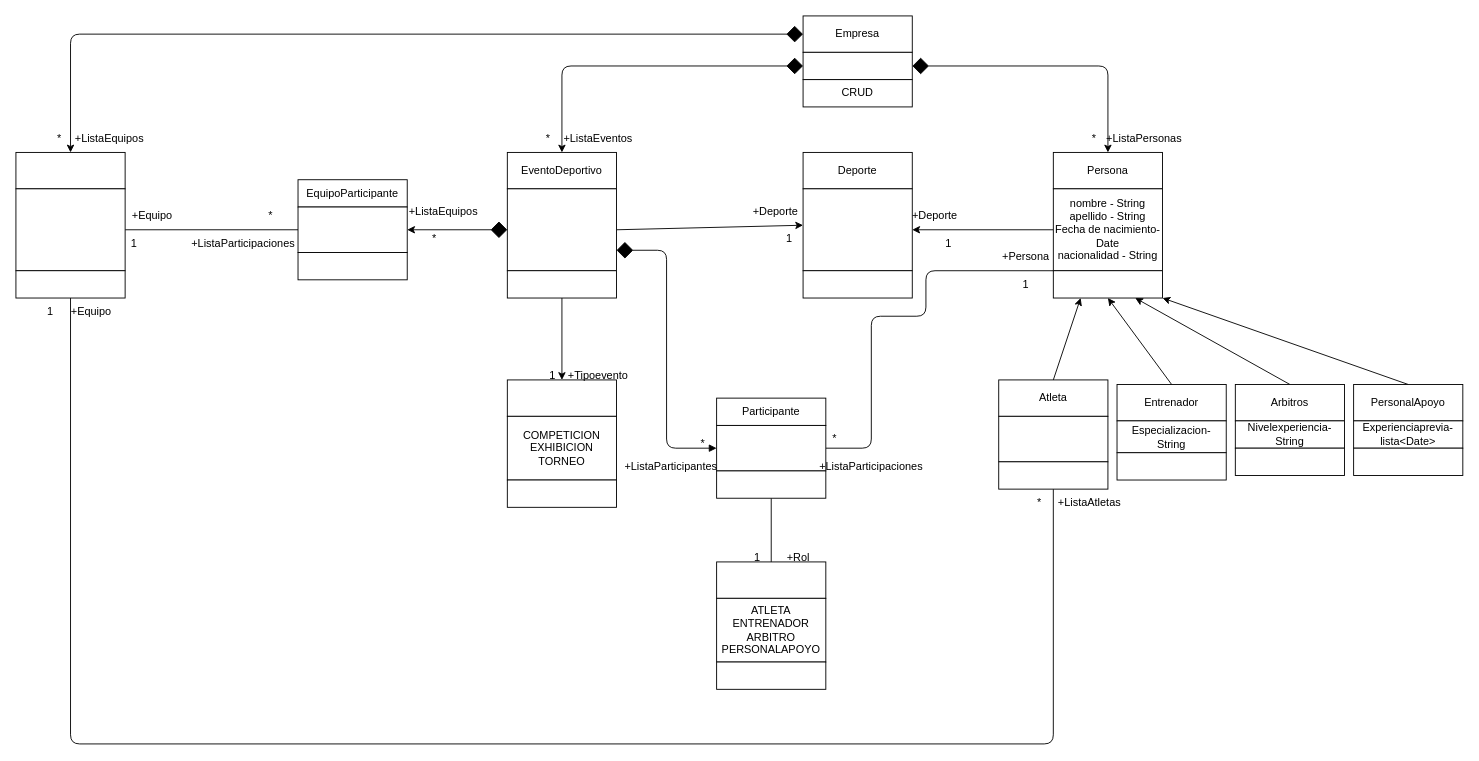
The diagram is 1479 pixels wide and 761 high, and some of its shapes have lost their labels. Each missing label, with the box of its shape:
añosexperiencia-byte: (998, 415, 1108, 462)
Edad -Byte Pais - String: (716, 425, 826, 471)
Equipo: (15, 152, 125, 189)
NATACION VOLLEYBALL BALONCESTO FUTBOL: (802, 188, 912, 271)
nombre - String: (802, 51, 912, 80)
nombre - String fechainicio- Date ubicación - String: (506, 188, 617, 271)
nombre-String pais- String: (15, 188, 125, 271)
RolParticipante: (716, 561, 826, 598)
Tipoevento: (506, 379, 617, 416)
